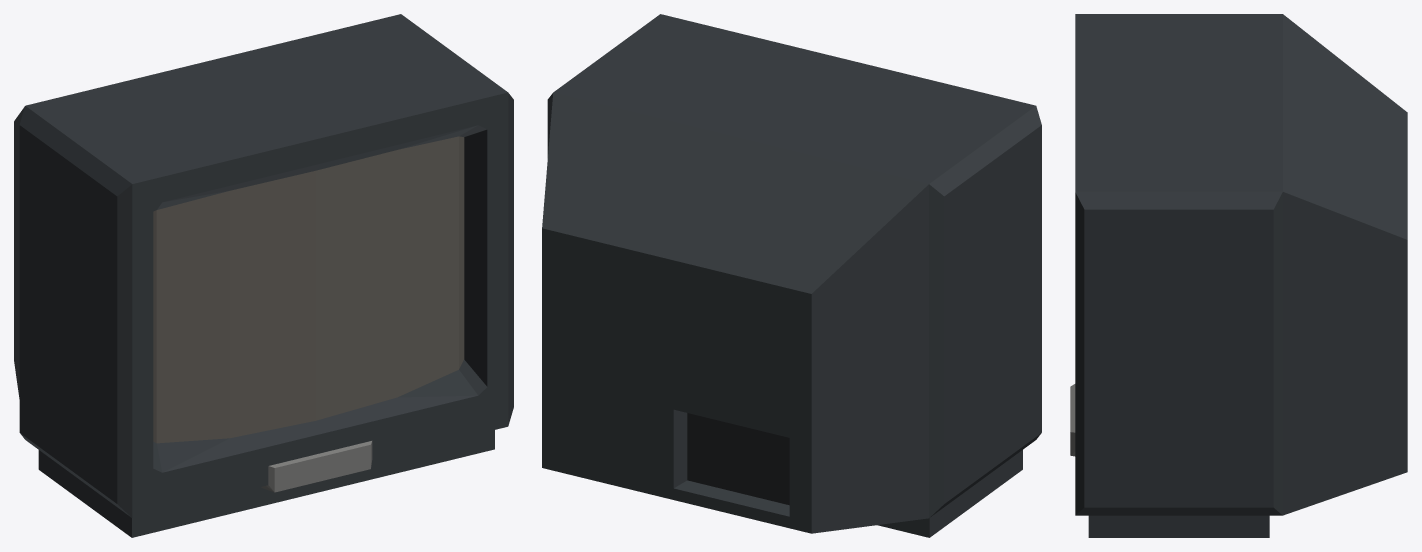
File: SM_Prop_Electronics_Tv_02.glb
3 renders of one model, left to right at view 1: azimuth 30°, elevation 25°; view 2: azimuth 150°, elevation 25°; view 3: azimuth 270°, elevation 25°, orthographic. The views are drawn at different scales.
Visible parts, largest first — view 1: SM_Prop_Electronics_Tv_02; view 2: SM_Prop_Electronics_Tv_02; view 3: SM_Prop_Electronics_Tv_02.
Boxes of the visible parts, box(x1,y1,x2,y2) form: SM_Prop_Electronics_Tv_02: box(14, 14, 513, 537); SM_Prop_Electronics_Tv_02: box(542, 14, 1041, 537); SM_Prop_Electronics_Tv_02: box(1070, 14, 1407, 537).
Size of the model in its own units: 0.6716 by 0.5832 by 0.5104.
Materials: 1 (1 with a texture image).
